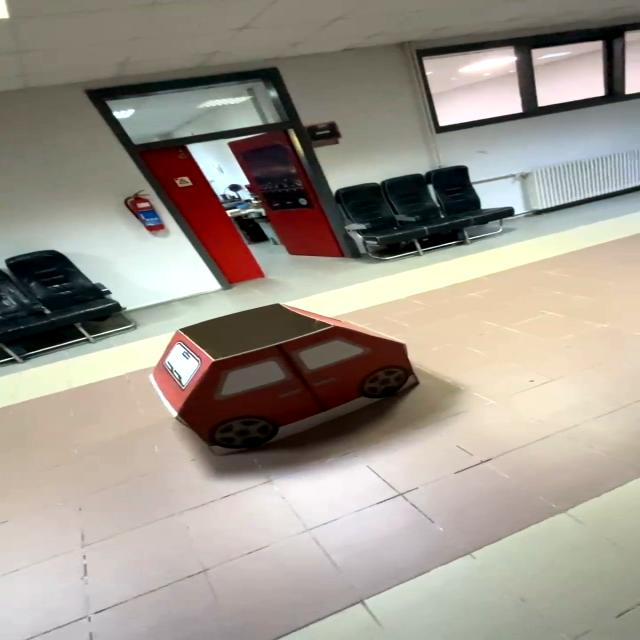red_car: (143, 289, 427, 469)
